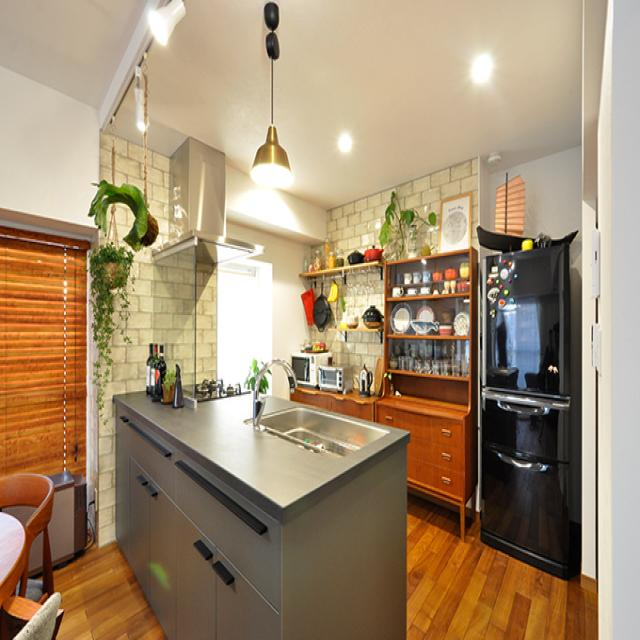vintage shelf: (378, 249, 477, 521)
